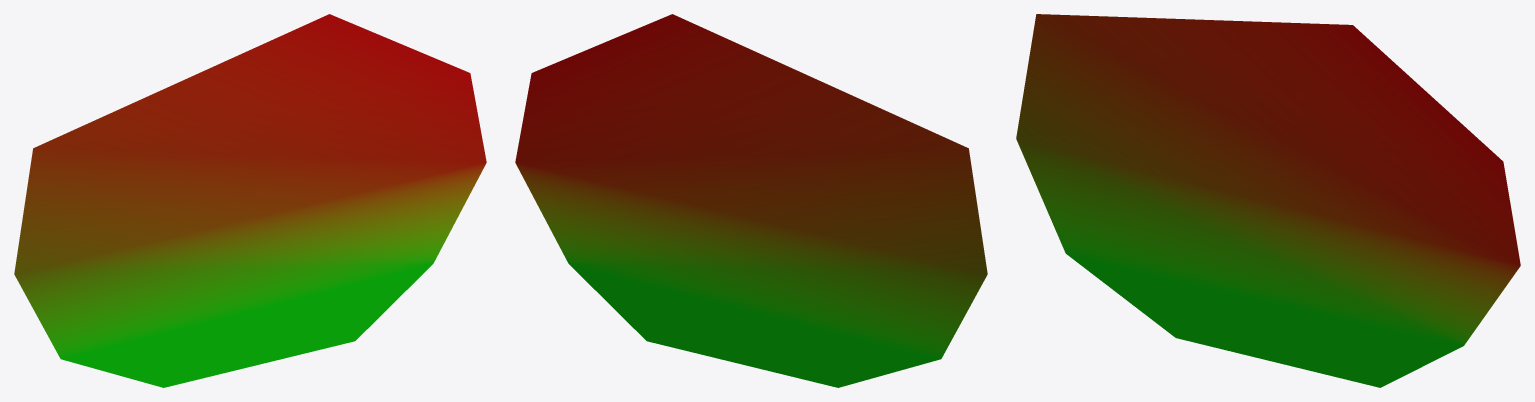
File: Butterfly Weed_LOD4_Var6.fbx
3 renders of one model, left to right at view 1: azimuth 30°, elevation 25°; view 2: azimuth 150°, elevation 25°; view 3: azimuth 330°, elevation 25°, orthographic. The views are drawn at different scales.
Visible parts, largest first — view 1: _qvif_Var6_LOD4; view 2: _qvif_Var6_LOD4; view 3: _qvif_Var6_LOD4.
Boxes of the visible parts, left/top/right/bottom form: _qvif_Var6_LOD4: left=14, top=14, right=486, bottom=387; _qvif_Var6_LOD4: left=515, top=14, right=987, bottom=387; _qvif_Var6_LOD4: left=1016, top=14, right=1520, bottom=387.
Size of the model in its own units: 73.92 by 49.86 by 2.95e-06.
